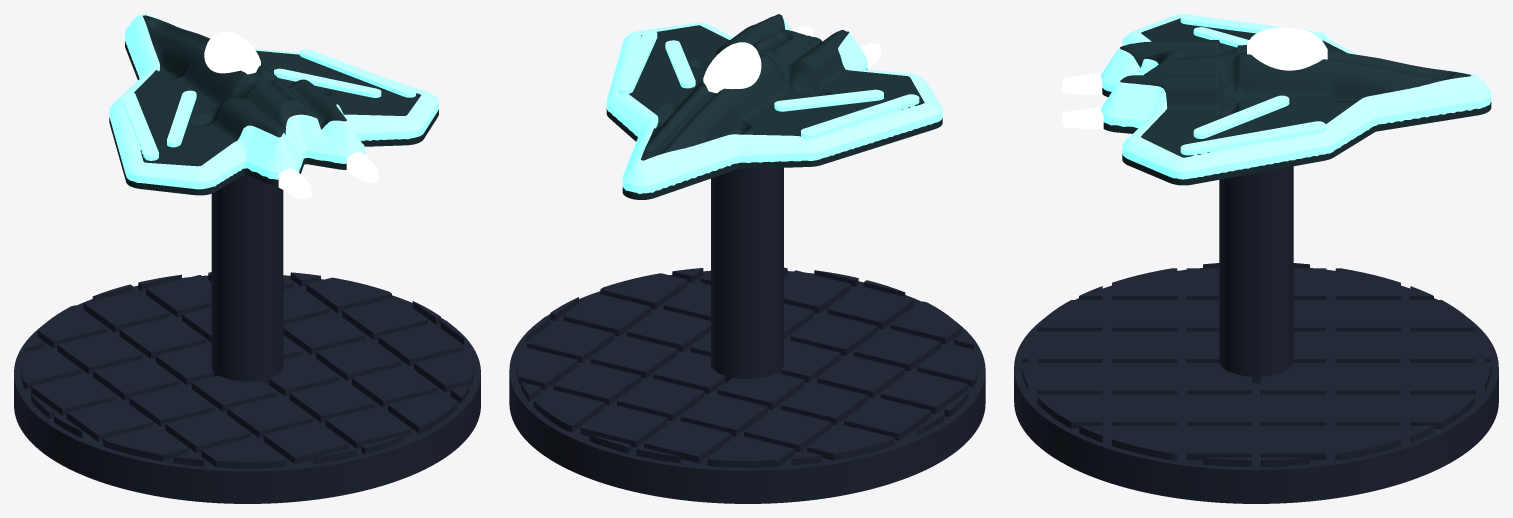
File: voidrunner-mini.glb
The picture shows the model from 3 angles, left to right: view 1: azimuth 30°, elevation 25°; view 2: azimuth 150°, elevation 25°; view 3: azimuth 270°, elevation 25°; orthographic projection. The views are drawn at different scales.
Visible parts, largest first — view 1: stand, hull, neon, canopy, flame; view 2: stand, hull, neon, canopy; view 3: stand, hull, neon, canopy, flame.
Boxes of the visible parts, x1,y1,x2,y2 form: stand: (14,174,480,503); hull: (109,15,438,195); neon: (109,14,438,189); canopy: (204,31,260,74); flame: (278,152,378,198); stand: (509,167,985,503); hull: (606,14,942,199); neon: (606,16,942,193); canopy: (703,42,761,93); stand: (1014,166,1498,503); hull: (1102,18,1491,185); neon: (1100,14,1491,179); canopy: (1247,27,1327,70); flame: (1062,72,1103,129).
Bounding box in the file's own units: 0.026 × 0.0221 × 0.026.
